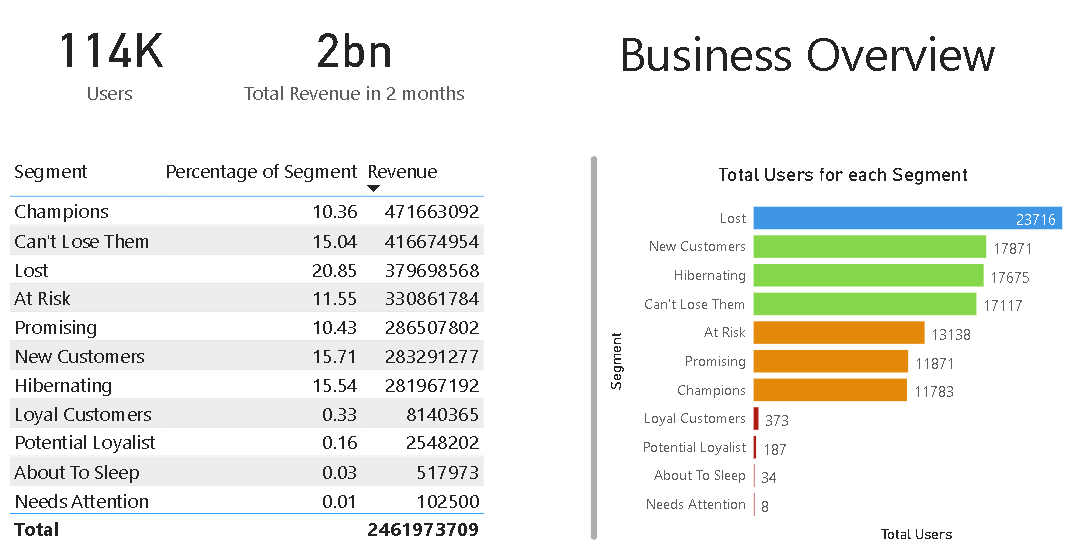

What the dashboard file says about the page in this screenshot:
{"tool":"powerbi","page":{"name":"Page 1","canvas":[1280,720],"ordinal":0},"visuals":[{"type":"card","fields":{"Values":["Sum(Sheet1.TotalUsers)"]},"box":[10,0,280,280],"z":0},{"type":"card","fields":{"Values":["Sum(Sheet1.Total$)"]},"box":[289.5,0,279.9,279.9],"z":1000},{"type":"tableEx","fields":{"Values":["Sheet1.CustomerSegmentation","Sheet1.PercentageSize","Sum(Sheet1.Total$)"]},"box":[30.2,247,683.4,451.5],"z":2000},{"type":"barChart","title":"Total Users for each Segment","fields":{"Category":["Sheet1.CustomerSegmentation"],"Y":["Sum(Sheet1.TotalUsers)"]},"box":[713.8,261.2,548.8,437],"z":3000},{"type":"textbox","box":[692.9,92.9,510,94.3],"z":3001}]}

Visuals, with their boxes on the page's 1280x720 design canvas (x1, y1, x2, y2). These are canvas units, not pixel positions in the 1078x552 screenshot, which may show the page scaled, cropped or inside an application window:
card - Sum(Sheet1.TotalUsers): BBox(10, 0, 290, 280)
card - Sum(Sheet1.Total$): BBox(290, 0, 569, 280)
tableEx - Sheet1.CustomerSegmentation x Sheet1.PercentageSize: BBox(30, 247, 714, 698)
"Total Users for each Segment" barChart: BBox(714, 261, 1263, 698)
textbox: BBox(693, 93, 1203, 187)
